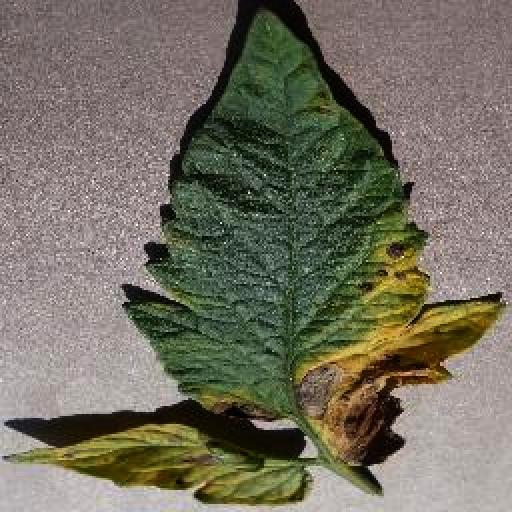disease_tomato: (119, 2, 503, 458)
